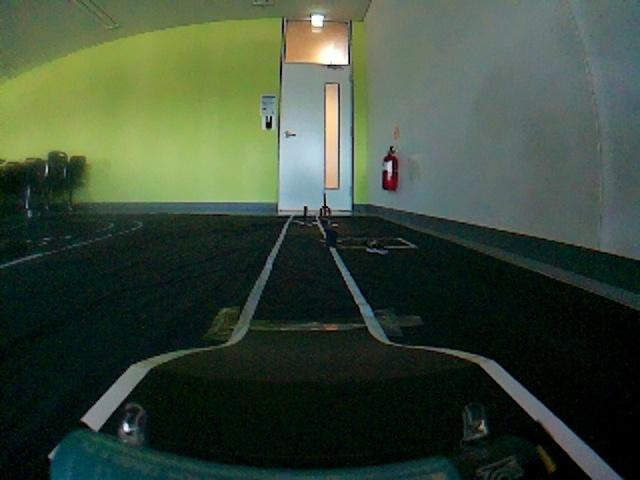go: (183, 246, 402, 317)
hill_down: (41, 323, 617, 480)
